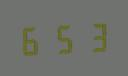five: (49, 20, 78, 55)
six: (18, 22, 47, 56)
three: (79, 19, 108, 53)
